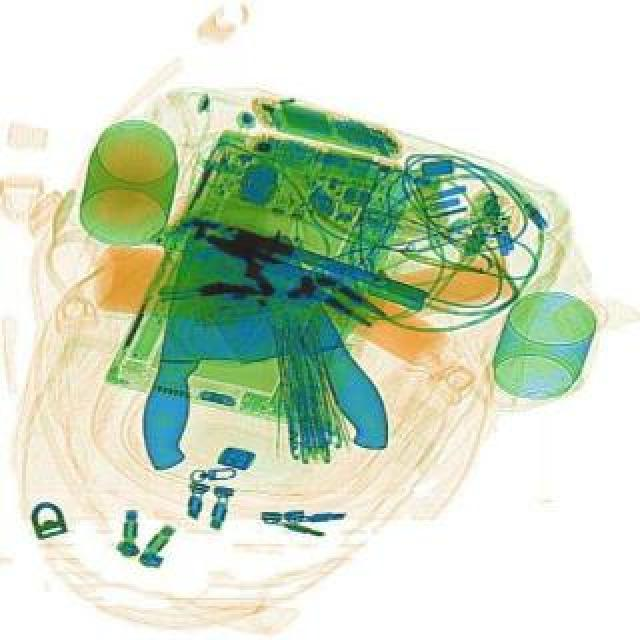knife: (176, 206, 404, 486), (130, 228, 294, 484)
